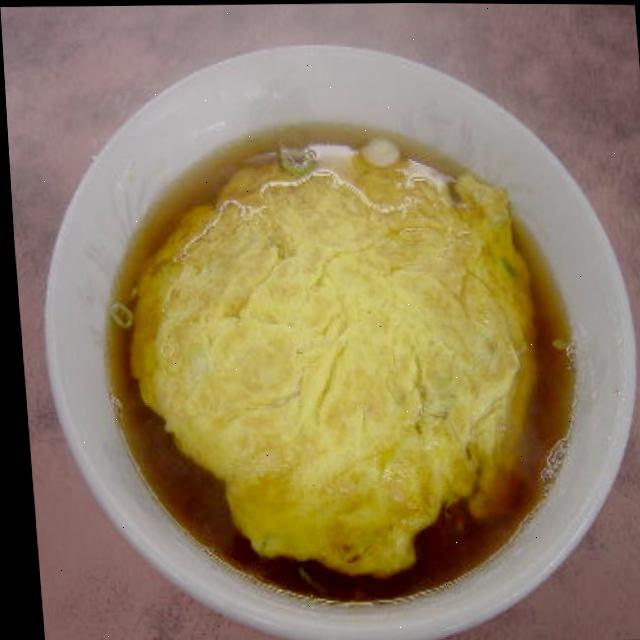面条主食: (93, 89, 589, 608)
